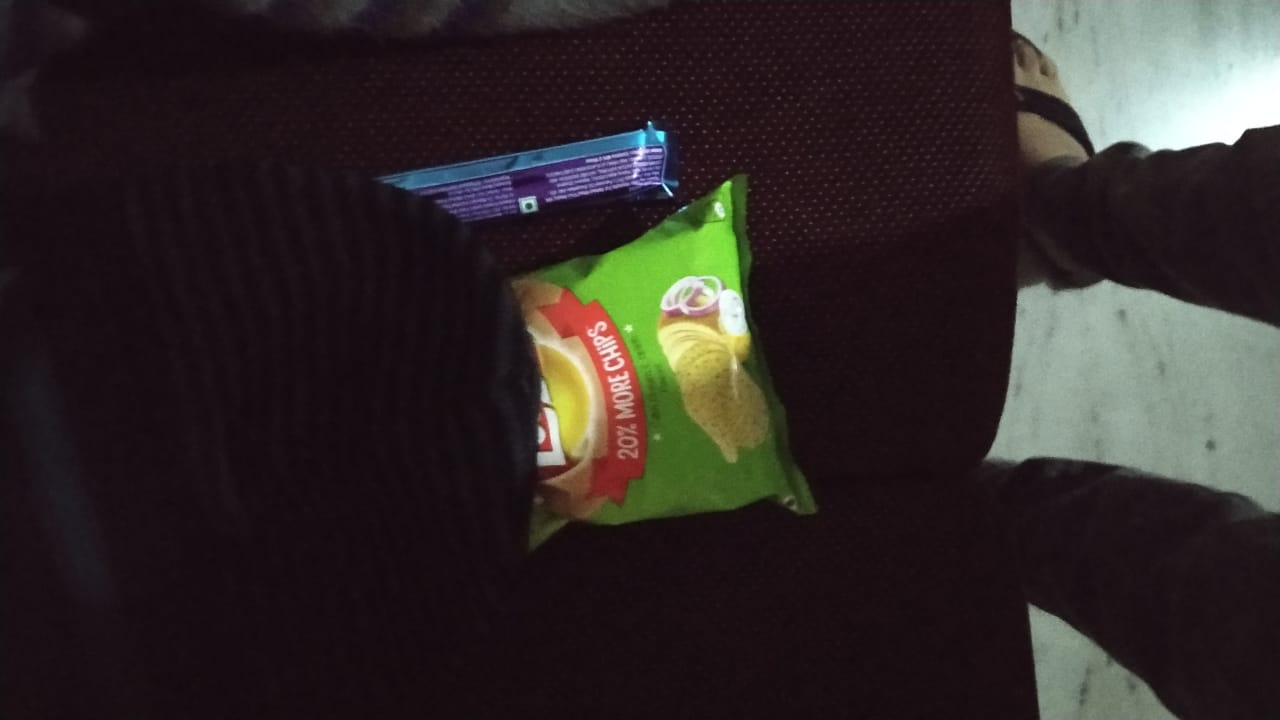lays chips: (499, 208, 817, 553)
perk: (327, 125, 682, 217)
